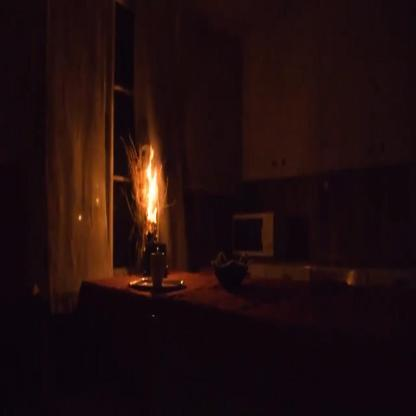fire: (141, 139, 169, 234)
